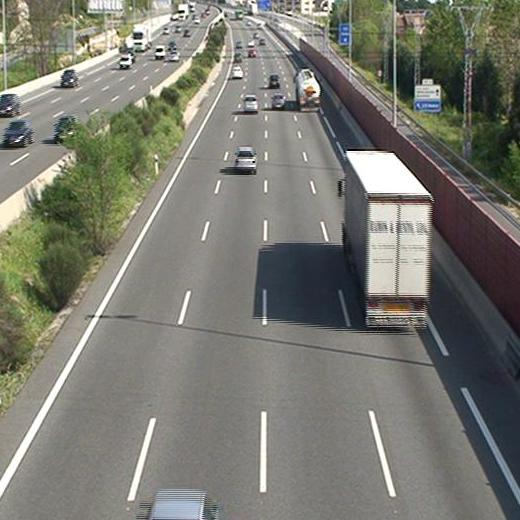car: (235, 145, 256, 173), (243, 95, 258, 115), (271, 94, 284, 109), (231, 65, 242, 79), (269, 74, 280, 88), (232, 53, 241, 62), (247, 48, 255, 56)
tank-truck: (295, 69, 320, 112)
truck: (345, 150, 432, 330)
